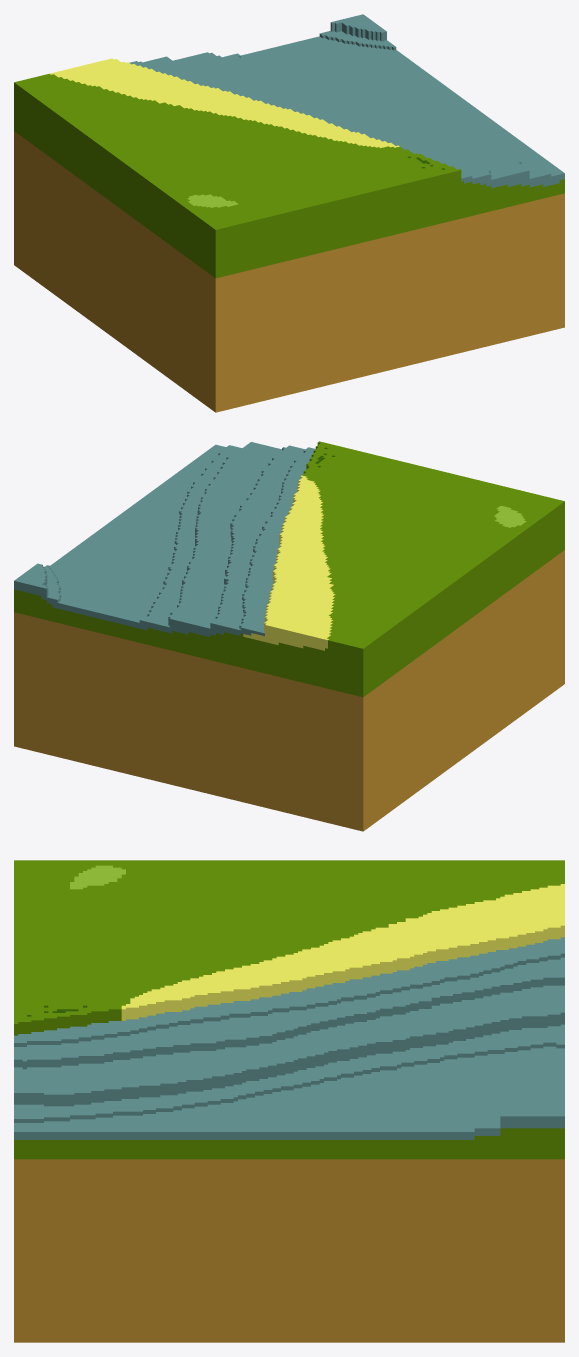
3 renders of one model, top to bottom at view 1: azimuth 30°, elevation 25°; view 2: azimuth 150°, elevation 25°; view 3: azimuth 270°, elevation 25°, orthographic. The views are drawn at different scales.
Visible parts, largest first — view 1: 13M; view 2: 13M; view 3: 13M.
Boxes of the visible parts, x1,y1,x2,y2 form: 13M: [14, 14, 564, 412]; 13M: [14, 441, 564, 831]; 13M: [14, 860, 564, 1342].
Bounding box in the file's own units: 12.8 × 6.4 × 12.8.
1 material, 1 textured.
